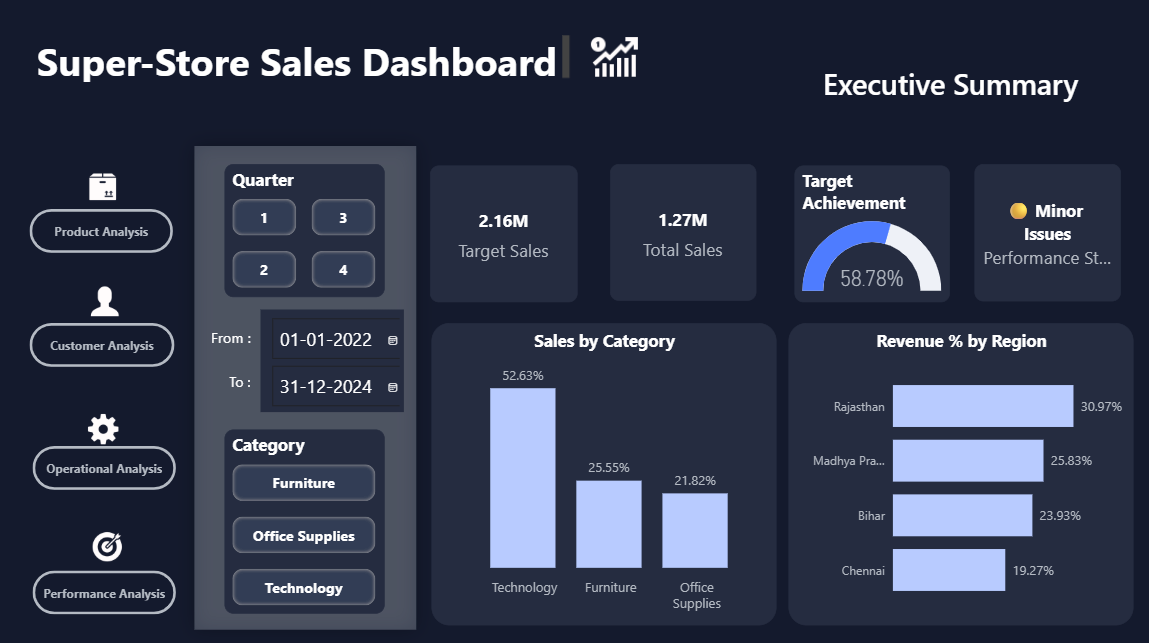

What the dashboard file says about the page in this screenshot:
{"tool":"powerbi","page":{"name":"Executive Summary","canvas":[1280,720],"ordinal":0},"visuals":[{"type":"card","fields":{"Values":["Orders.Total Revenue"]},"box":[292.8,148,191.9,126.9],"z":0},{"type":"textbox","box":[24.4,30.9,364.3,73.2],"z":1000},{"type":"actionButton","box":[566,55.3,161,48.8],"z":2000},{"type":"card","fields":{"Values":["Sum(Targets.Target Sales)"]},"box":[40.7,147.8,191.9,126.9],"z":3000},{"type":"actionButton","box":[731.9,55.3,164.3,48.8],"z":4000},{"type":"card","fields":{"Values":["Orders.Target Variance"]},"box":[544.9,148,191.9,126.9],"z":5000},{"type":"actionButton","box":[899.5,56.9,177.3,48.8],"z":6000},{"type":"card","title":"Profit Margin","fields":{"Values":["Orders.Performance Status"]},"box":[1055.6,148,191.9,126.9],"z":7000},{"type":"actionButton","box":[1081.7,55.3,191.9,48.8],"z":8000},{"type":"clusteredColumnChart","fields":{"Category":["Products.Category"],"Y":["Sum(Orders.Sales)"]},"box":[16.2,285.1,432,304],"z":9000},{"type":"lineChart","fields":{"Y":["Sum(Orders.Sales)"],"Category":["Calendar.Month"]},"box":[455.7,284.7,385.5,304.2],"z":10000},{"type":"barChart","fields":{"Category":["Customers.Region"],"Y":["Orders.Total Revenue"]},"box":[848.2,285.1,416,304],"z":11000},{"type":"advancedSlicerVisual","fields":{"Values":["Calendar.Quarter"]},"box":[16.3,600.2,431,110.6],"z":12000},{"type":"advancedSlicerVisual","fields":{"Values":["Products.Category"]},"box":[793.8,600.2,470.1,110.6],"z":13000},{"type":"image","box":[396.9,32.5,87.8,69.9],"z":14000},{"type":"image","box":[967.8,4.9,47.2,52],"z":15000},{"type":"image","box":[1156.5,6.5,45.5,53.7],"z":16000},{"type":"image","box":[793.8,6.5,50.4,48.8],"z":17000},{"type":"image","box":[627.2,8,46.4,48],"z":18000},{"type":"gauge","fields":{"Y":["Orders.Target Achievement %"]},"box":[797,149.6,203.3,126.9],"z":19000},{"type":"slicer","fields":{"Values":["Calendar.Date"]},"box":[476.6,600.2,300.9,110.6],"z":20000}]}

Visuals, with their boxes in screenshot pixels (x1, y1, x2, y2), scaled from the page's 1280x720 canvas onto the 1149x643 screenshot:
card - Orders.Total Revenue: [left=263, top=132, right=435, bottom=246]
textbox: [left=22, top=28, right=349, bottom=93]
actionButton: [left=508, top=49, right=653, bottom=93]
card - Sum(Targets.Target Sales): [left=37, top=132, right=209, bottom=245]
actionButton: [left=657, top=49, right=804, bottom=93]
card - Orders.Target Variance: [left=489, top=132, right=661, bottom=246]
actionButton: [left=807, top=51, right=967, bottom=94]
"Profit Margin" card: [left=948, top=132, right=1120, bottom=246]
actionButton: [left=971, top=49, right=1143, bottom=93]
clusteredColumnChart - Products.Category x Sum(Orders.Sales): [left=15, top=255, right=402, bottom=526]
lineChart - Sum(Orders.Sales) x Calendar.Month: [left=409, top=254, right=755, bottom=526]
barChart - Customers.Region x Orders.Total Revenue: [left=761, top=255, right=1135, bottom=526]
advancedSlicerVisual - Calendar.Quarter: [left=15, top=536, right=402, bottom=635]
advancedSlicerVisual - Products.Category: [left=713, top=536, right=1135, bottom=635]
image: [left=356, top=29, right=435, bottom=91]
image: [left=869, top=4, right=911, bottom=51]
image: [left=1038, top=6, right=1079, bottom=54]
image: [left=713, top=6, right=758, bottom=49]
image: [left=563, top=7, right=605, bottom=50]
gauge - Orders.Target Achievement %: [left=715, top=134, right=898, bottom=247]
slicer - Calendar.Date: [left=428, top=536, right=698, bottom=635]
